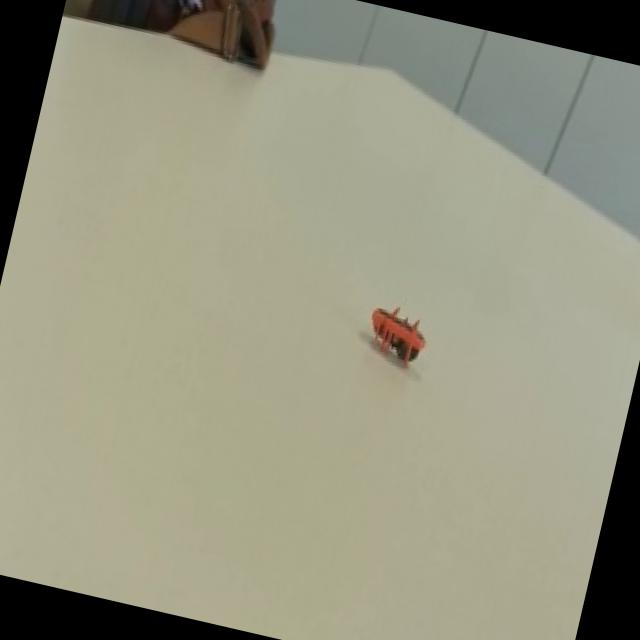7_NanoBug_Naranja: (337, 280, 454, 396)
